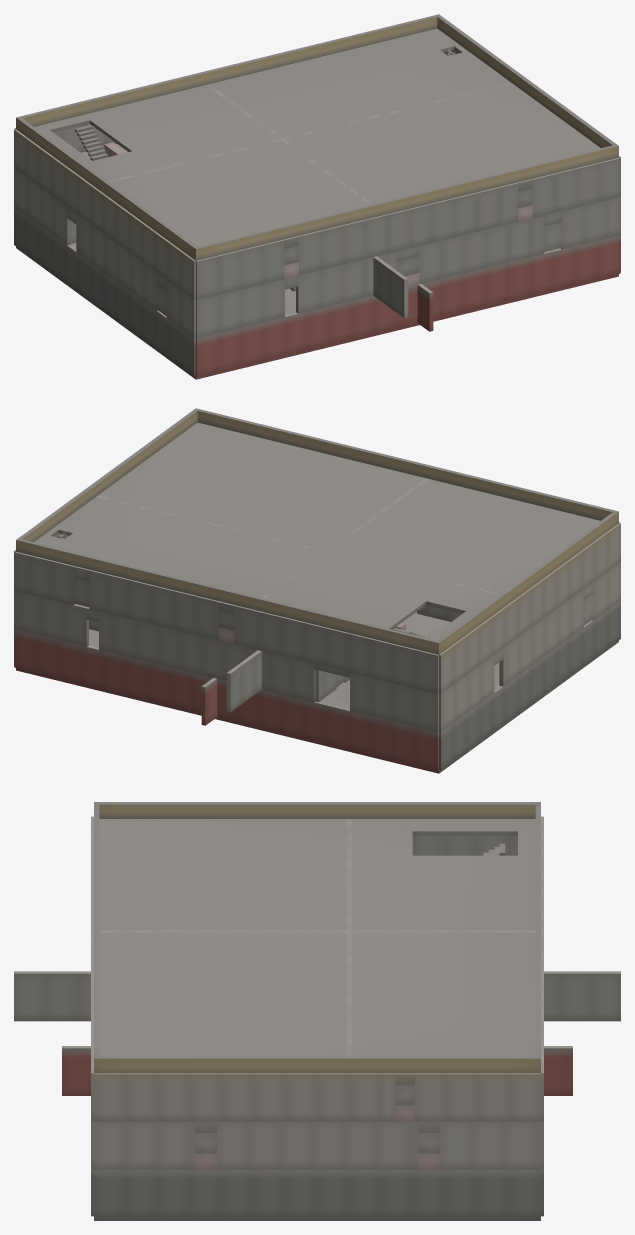
Rendered from night_deli.patina.glb.
3 views of the same model, one above another, from view 1: azimuth 30°, elevation 25°; view 2: azimuth 150°, elevation 25°; view 3: azimuth 270°, elevation 25° (orthographic). The views are drawn at different scales.
Parts seen in each view (by area): view 1: slab_2, parapet_S, parapet_N, parapet_W, parapet_E, slab_-1, ext_1_S_seg0, ext_0_S_seg4, ext_-1_S_seg0, ext_0_S_seg0, ext_1_S_seg1, ext_1_S_seg4 (+89 smaller); view 2: slab_2, parapet_N, parapet_S, parapet_W, parapet_E, slab_-1, ext_0_N_seg14, ext_1_N_seg0, ext_-1_N_seg4, ext_-1_N_seg0, ext_0_N_seg0, ext_0_N_seg4 (+90 smaller); view 3: slab_2, parapet_E, parapet_W, slab_-1, int_0_2_seg0, int_0_2_seg1, int_0_2_seg17, parapet_N, parapet_S, ext_1_E_seg1, ext_1_E_seg2, ext_1_E_seg3 (+44 smaller).
Boxes of the visible parts, left/top/right/bottom form: slab_2: left=34, top=28, right=600, bottom=246; parapet_S: left=193, top=144, right=618, bottom=260; parapet_N: left=16, top=14, right=440, bottom=130; parapet_W: left=16, top=118, right=199, bottom=260; parapet_E: left=437, top=14, right=618, bottom=158; slab_-1: left=16, top=246, right=618, bottom=379; ext_1_S_seg0: left=196, top=255, right=219, bottom=299; ext_0_S_seg4: left=296, top=270, right=320, bottom=313; ext_-1_S_seg0: left=196, top=333, right=219, bottom=376; ext_0_S_seg0: left=196, top=295, right=219, bottom=338; ext_1_S_seg1: left=218, top=250, right=241, bottom=294; ext_1_S_seg4: left=298, top=230, right=321, bottom=275; slab_2: left=34, top=422, right=600, bottom=640; parapet_N: left=16, top=538, right=441, bottom=654; parapet_S: left=194, top=408, right=618, bottom=520; parapet_W: left=435, top=512, right=618, bottom=654; parapet_E: left=16, top=409, right=198, bottom=552; slab_-1: left=16, top=640, right=618, bottom=773; ext_0_N_seg14: left=64, top=603, right=88, bottom=646; ext_1_N_seg0: left=415, top=649, right=438, bottom=693; ext_-1_N_seg4: left=326, top=704, right=349, bottom=749; ext_-1_N_seg0: left=415, top=727, right=438, bottom=770; ext_0_N_seg0: left=415, top=689, right=438, bottom=732; ext_0_N_seg4: left=292, top=658, right=315, bottom=702; slab_2: left=99, top=819, right=535, bottom=1056; parapet_E: left=94, top=1056, right=540, bottom=1073; parapet_W: left=94, top=802, right=540, bottom=818; slab_-1: left=94, top=1217, right=540, bottom=1220; int_0_2_seg0: left=14, top=971, right=45, bottom=1021; int_0_2_seg1: left=46, top=971, right=77, bottom=1021; int_0_2_seg17: left=561, top=971, right=592, bottom=1021; parapet_N: left=535, top=802, right=540, bottom=1073; parapet_S: left=94, top=802, right=99, bottom=1073; ext_1_E_seg1: left=125, top=1073, right=157, bottom=1121; ext_1_E_seg2: left=157, top=1073, right=189, bottom=1121; ext_1_E_seg3: left=189, top=1073, right=221, bottom=1121.
Size of what is drawn, in the model's own units: 38.35 by 11.2 by 38.
